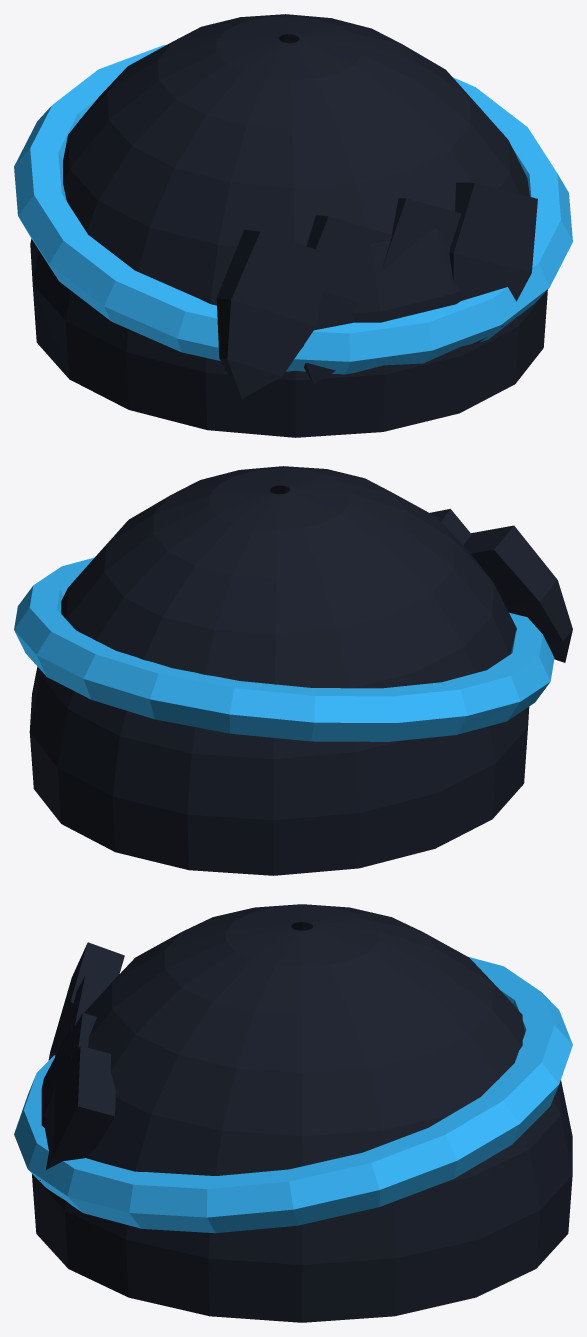
The model's file is Skin_StarterHead.obj.
The picture shows the model from 3 angles, top to bottom: view 1: azimuth 30°, elevation 25°; view 2: azimuth 150°, elevation 25°; view 3: azimuth 270°, elevation 25°; orthographic projection. The views are drawn at different scales.
Visible parts, largest first — view 1: Skin_StarterHead_BaseArmor, Skin_StarterHead_EmissiveCore; view 2: Skin_StarterHead_BaseArmor, Skin_StarterHead_EmissiveCore; view 3: Skin_StarterHead_BaseArmor, Skin_StarterHead_EmissiveCore.
Part boxes in pixels (bbox=[...]): Skin_StarterHead_BaseArmor: bbox=[30, 14, 547, 437]; Skin_StarterHead_EmissiveCore: bbox=[14, 44, 572, 374]; Skin_StarterHead_BaseArmor: bbox=[29, 466, 572, 875]; Skin_StarterHead_EmissiveCore: bbox=[14, 558, 554, 741]; Skin_StarterHead_BaseArmor: bbox=[32, 904, 572, 1322]; Skin_StarterHead_EmissiveCore: bbox=[14, 956, 572, 1233].
Bounding box in the file's own units: 0.258 × 0.1448 × 0.2541.
